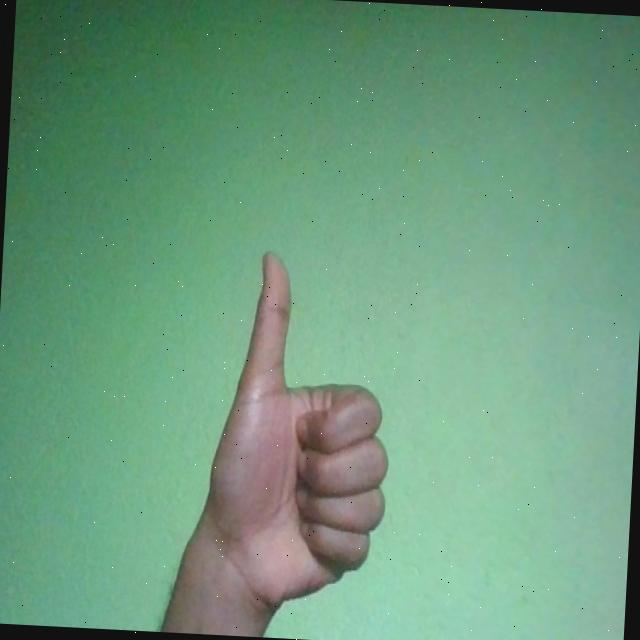Good Job: (200, 248, 400, 623)
